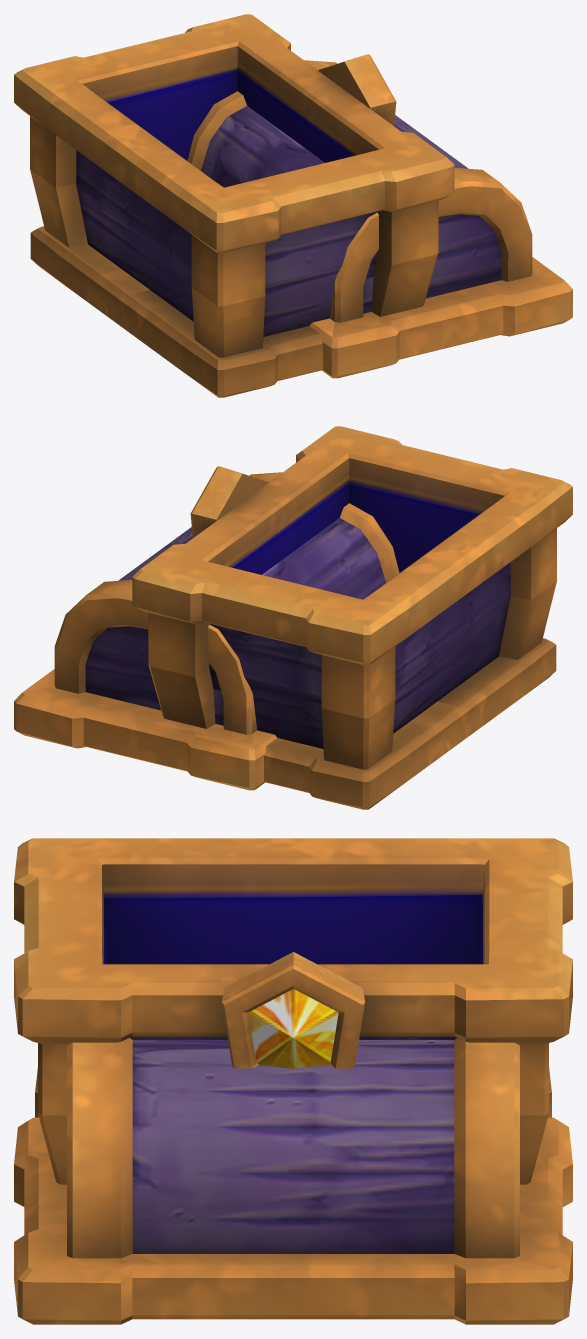
Rendered from treasure_chest_textured.glb.
The picture shows the model from 3 angles, top to bottom: view 1: azimuth 30°, elevation 25°; view 2: azimuth 150°, elevation 25°; view 3: azimuth 270°, elevation 25°; orthographic projection. The views are drawn at different scales.
Parts seen in each view (by area): view 1: Cylinder, chest_lid; view 2: Cylinder, chest_lid; view 3: chest_lid, Cylinder.
Part boxes in pixels (x1,y1,x2,y2): Cylinder: (14,14,454,397); chest_lid: (187,60,572,378); Cylinder: (132,426,572,809); chest_lid: (14,472,399,790); chest_lid: (14,1038,572,1324); Cylinder: (14,838,572,1184).
Bounding box in the file's own units: 3.14 × 1.84 × 3.15.
2 materials, 2 textured.
